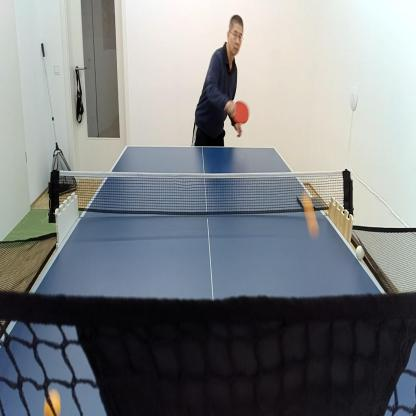Ball: (301, 193, 320, 240), (42, 384, 62, 416), (354, 244, 366, 262)
